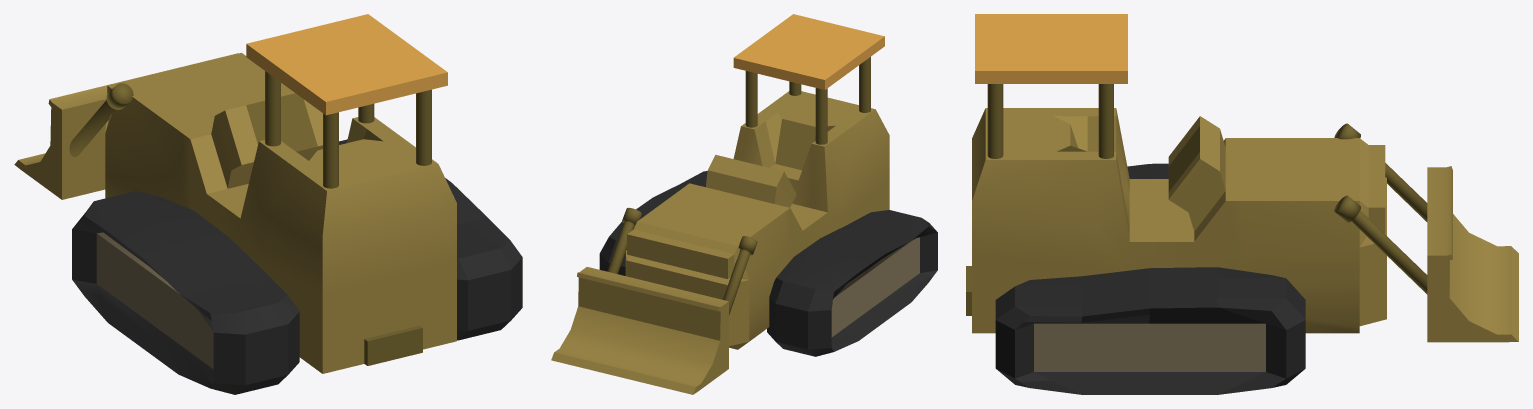
Rendered from PS1Tractor.fbx.
3 renders of one model, left to right at view 1: azimuth 30°, elevation 25°; view 2: azimuth 150°, elevation 25°; view 3: azimuth 270°, elevation 25°, orthographic. The views are drawn at different scales.
Parts seen in each view (by area): view 1: Cube, Cube.002, Cube.003, Cube.001, Cube.004, Cylinder.001, Cylinder.002, Cylinder; view 2: Cube, Cube.002, Cube.004, Cube.003, Cylinder.002, Cylinder, Cube.001, Cylinder.001; view 3: Cube, Cube.001, Cube.004, Cube.003, Cylinder.002, Cylinder.001, Cylinder, Cube.002.
Part boxes in pixels (x1=…): Cube: x1=105, y1=52, x2=456, y2=373; Cube.002: x1=72, y1=191, x2=299, y2=394; Cube.003: x1=246, y1=14, x2=447, y2=115; Cube.001: x1=339, y1=139, x2=522, y2=340; Cube.004: x1=14, y1=53, x2=238, y2=199; Cylinder.001: x1=323, y1=89, x2=431, y2=188; Cylinder.002: x1=69, y1=83, x2=133, y2=157; Cylinder: x1=265, y1=71, x2=374, y2=146; Cube: x1=625, y1=91, x2=889, y2=349; Cube.002: x1=767, y1=210, x2=937, y2=356; Cube.004: x1=551, y1=267, x2=728, y2=394; Cube.003: x1=733, y1=14, x2=884, y2=89; Cylinder.002: x1=607, y1=207, x2=757, y2=314; Cylinder: x1=745, y1=71, x2=827, y2=144; Cube.001: x1=599, y1=171, x2=707, y2=275; Cylinder.001: x1=789, y1=57, x2=870, y2=112; Cube: x1=966, y1=108, x2=1386, y2=333; Cube.001: x1=995, y1=267, x2=1305, y2=394; Cube.004: x1=1427, y1=166, x2=1518, y2=342; Cube.003: x1=975, y1=14, x2=1127, y2=83; Cylinder.002: x1=1334, y1=123, x2=1427, y2=294; Cylinder.001: x1=987, y1=84, x2=1003, y2=158; Cylinder: x1=1098, y1=84, x2=1113, y2=158; Cube.002: x1=1127, y1=163, x2=1168, y2=178.
Bounding box in the file's own units: 720 × 646 × 1159.
